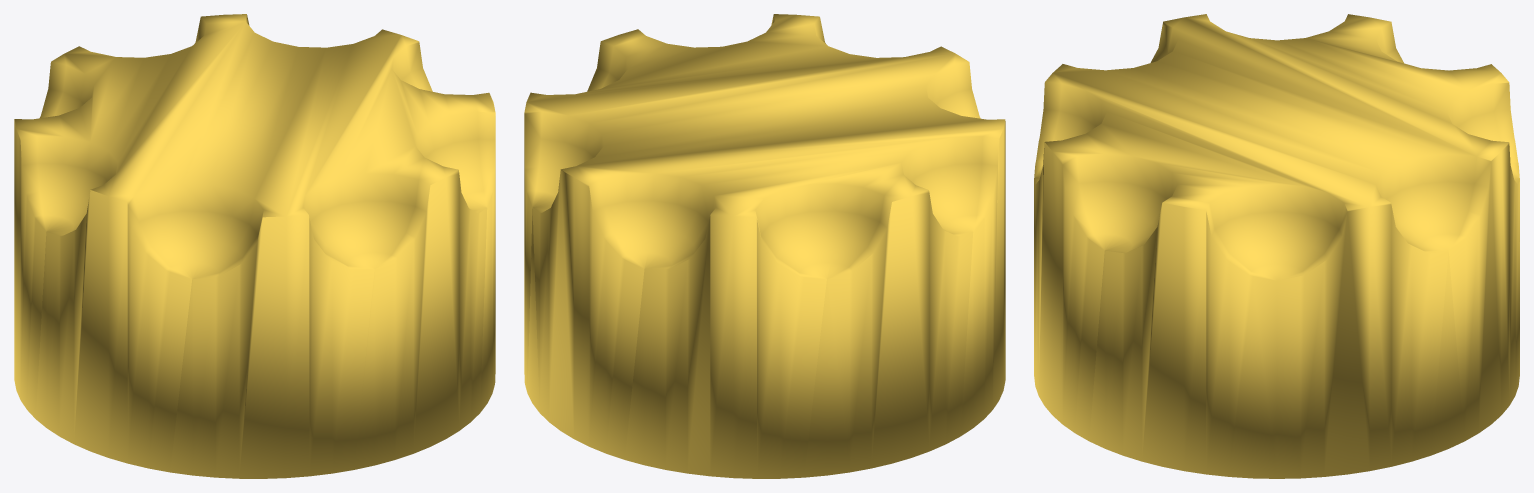
The model's file is malware_authority.glb.
3 views of the same model, side by side, from view 1: azimuth 30°, elevation 25°; view 2: azimuth 150°, elevation 25°; view 3: azimuth 270°, elevation 25° (orthographic).
Visible parts, largest first — view 1: Cylinder; view 2: Cylinder; view 3: Cylinder.
Boxes of the visible parts, x1=… form: Cylinder: x1=14, y1=14, x2=495, y2=478; Cylinder: x1=524, y1=14, x2=1005, y2=478; Cylinder: x1=1034, y1=14, x2=1519, y2=478.
Bounding box in the file's own units: 2 × 1.2 × 2.
